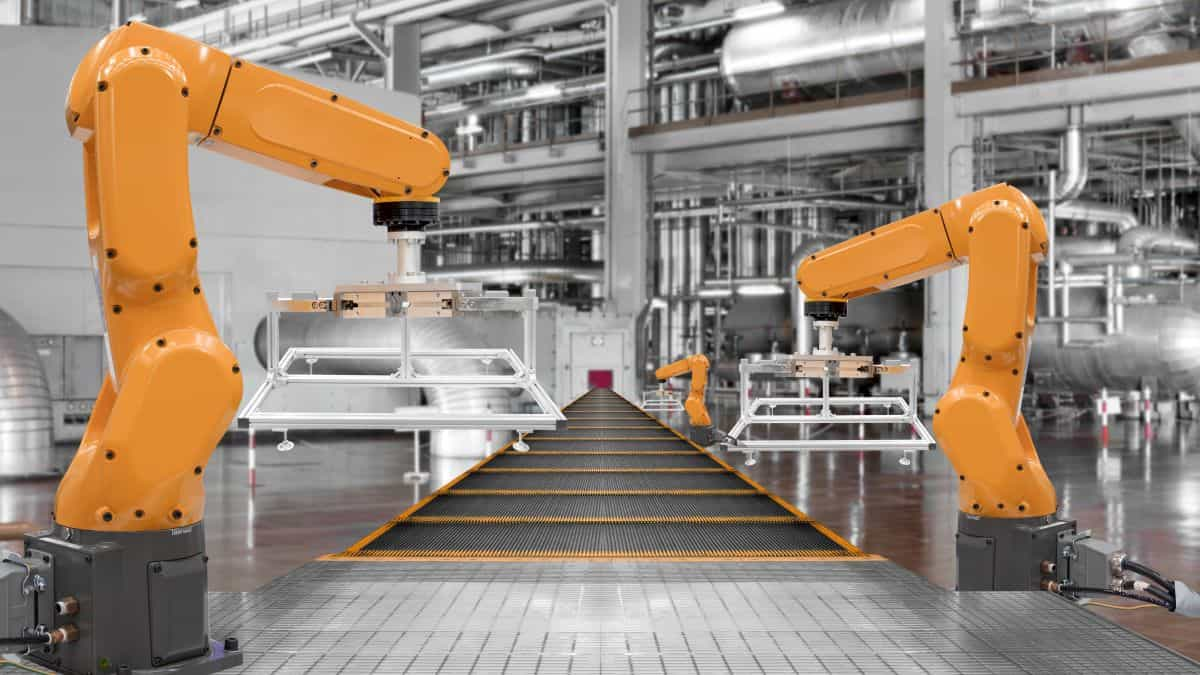robot: (21, 24, 452, 675), (796, 182, 1069, 593), (654, 353, 728, 444)
